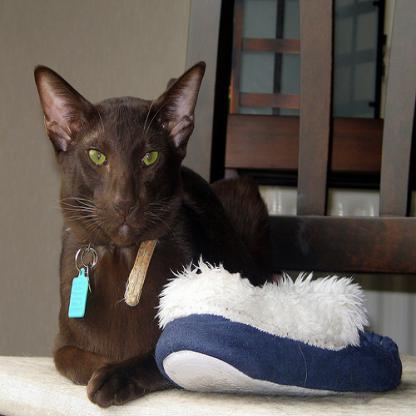cat: (35, 60, 272, 407)
